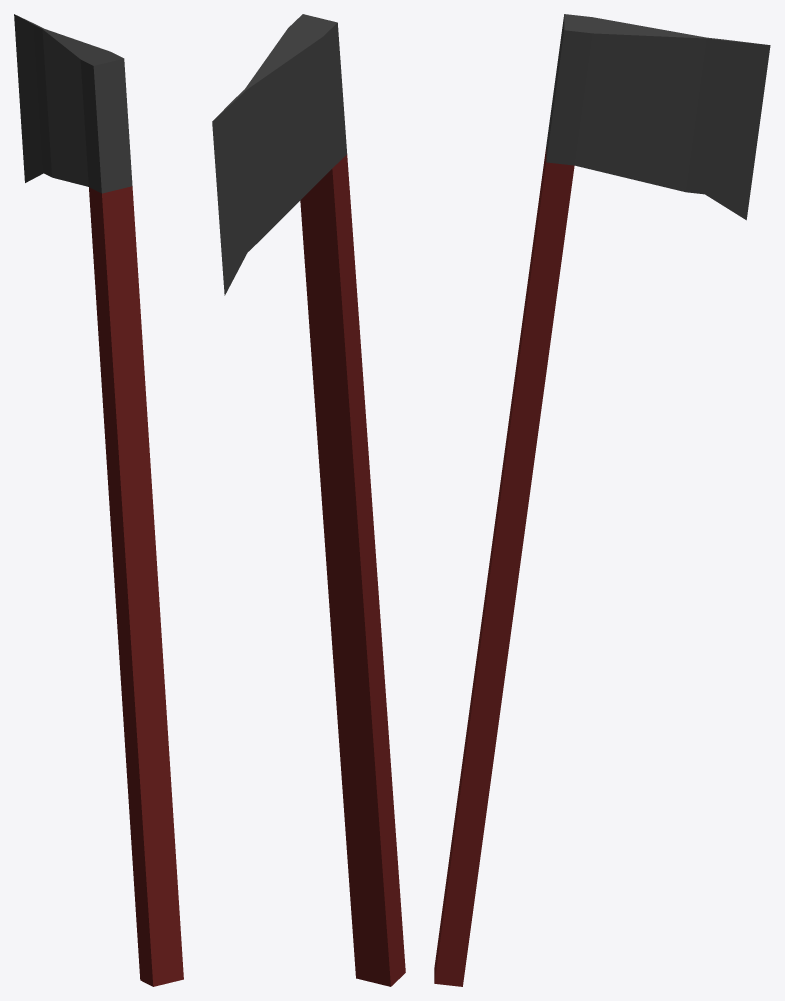
File: Axe.fbx
3 views of the same model, side by side, from view 1: azimuth 30°, elevation 25°; view 2: azimuth 150°, elevation 25°; view 3: azimuth 270°, elevation 25° (orthographic). The views are drawn at different scales.
Visible parts, largest first — view 1: Cube; view 2: Cube; view 3: Cube.
Boxes of the visible parts, x1,y1,x2,y2 form: Cube: [14, 14, 183, 986]; Cube: [212, 14, 405, 986]; Cube: [434, 14, 770, 986].
Size of the model in its own units: 54.04 by 1483 by 472.
